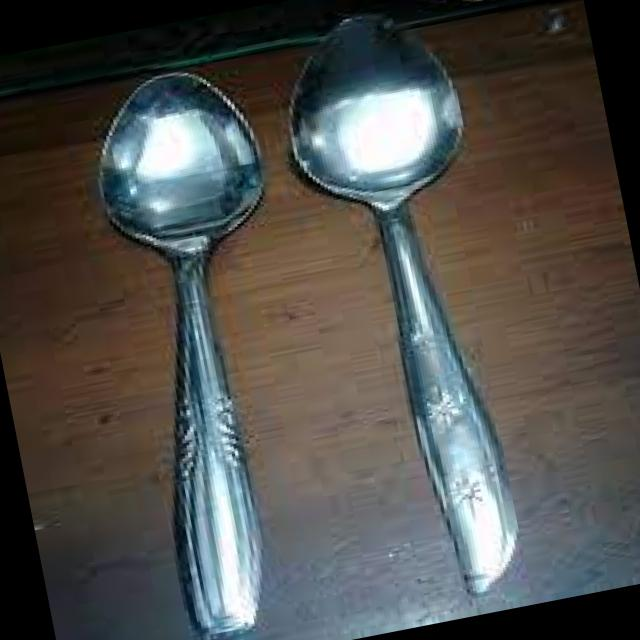spoon: (272, 0, 578, 622)
